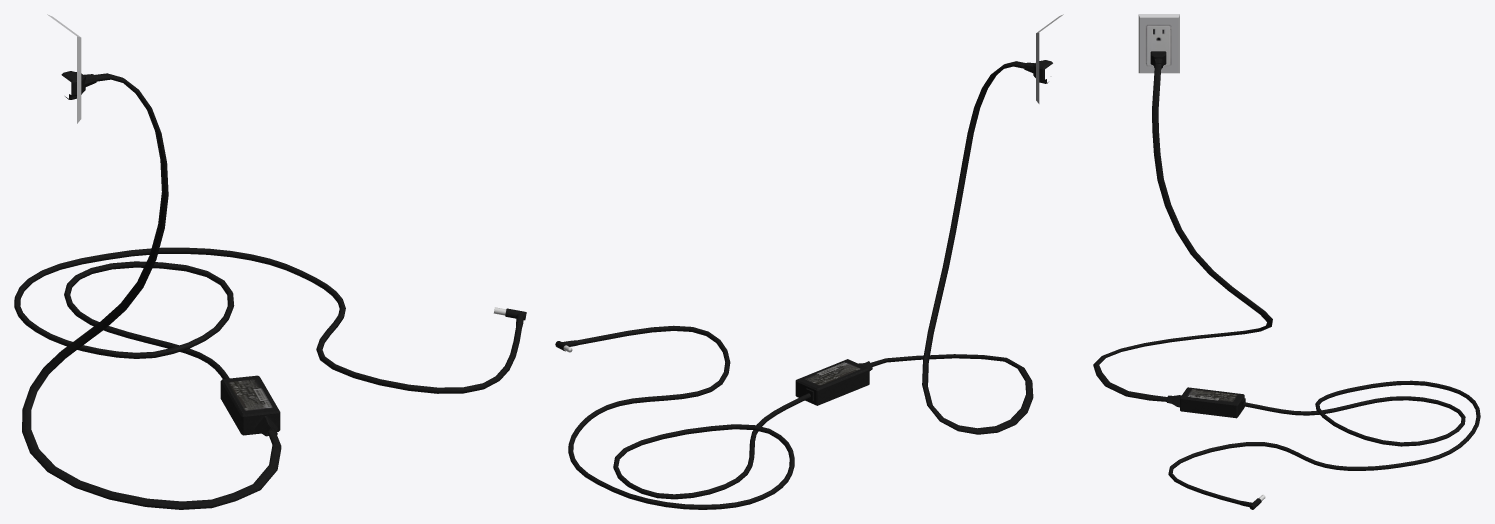
The model's file is pc-cable.glb.
3 views of the same model, side by side, from view 1: azimuth 30°, elevation 25°; view 2: azimuth 150°, elevation 25°; view 3: azimuth 270°, elevation 25° (orthographic). The views are drawn at different scales.
Visible parts, largest first — view 1: Pc_cableMesh; view 2: Pc_cableMesh; view 3: Pc_cableMesh, Conection.
Boxes of the visible parts, left/top/right/bottom form: Pc_cableMesh: left=14, top=71, right=526, bottom=509; Pc_cableMesh: left=555, top=60, right=1052, bottom=509; Pc_cableMesh: left=1093, top=51, right=1480, bottom=509; Conection: left=1138, top=14, right=1179, bottom=73.
Bounding box in the file's own units: 2.83 × 2.41 × 2.63.
1 material, 1 textured.
